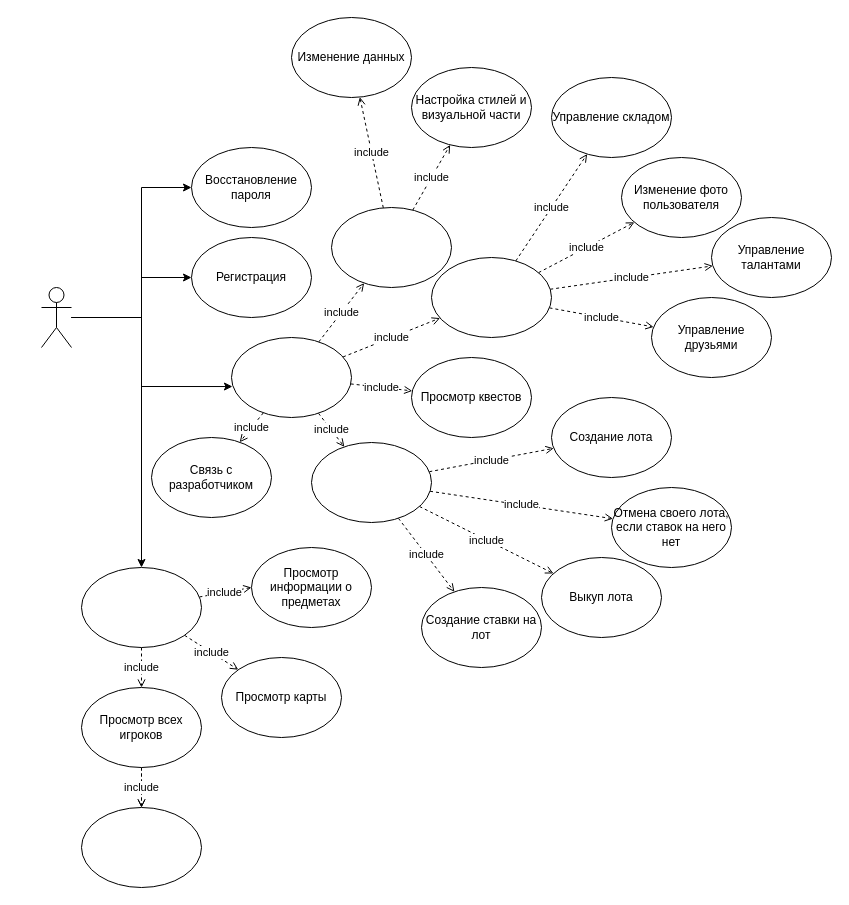
This 849x905 diagram has some shape labels left out. Each missing label, with the box of its shape:
Пользователь: (40, 286, 72, 348)
Просмотр аукциона: (310, 442, 432, 522)
Просмотр контента сайта: (80, 566, 202, 648)
Просмотр профиля: (430, 256, 552, 338)
Просмотр профиля отедельного игрока: (80, 806, 202, 888)
Прохождение авторизации: (230, 336, 352, 418)
Управление аккаунтом: (330, 206, 452, 288)
